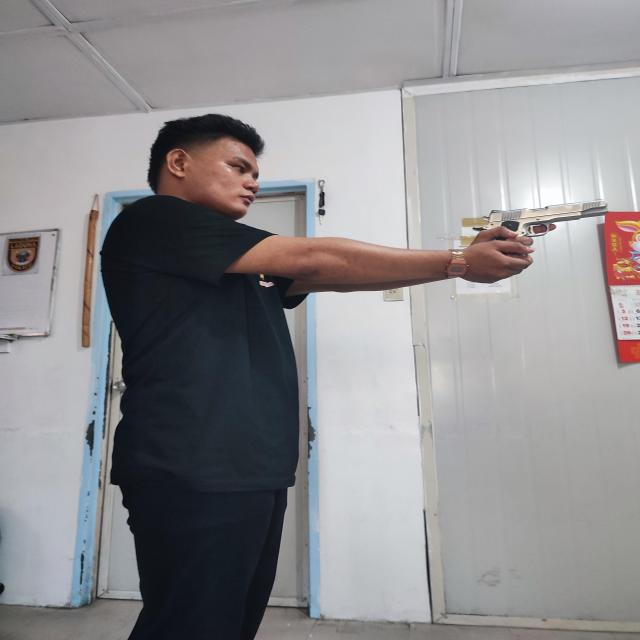pistol: (482, 199, 608, 241)
